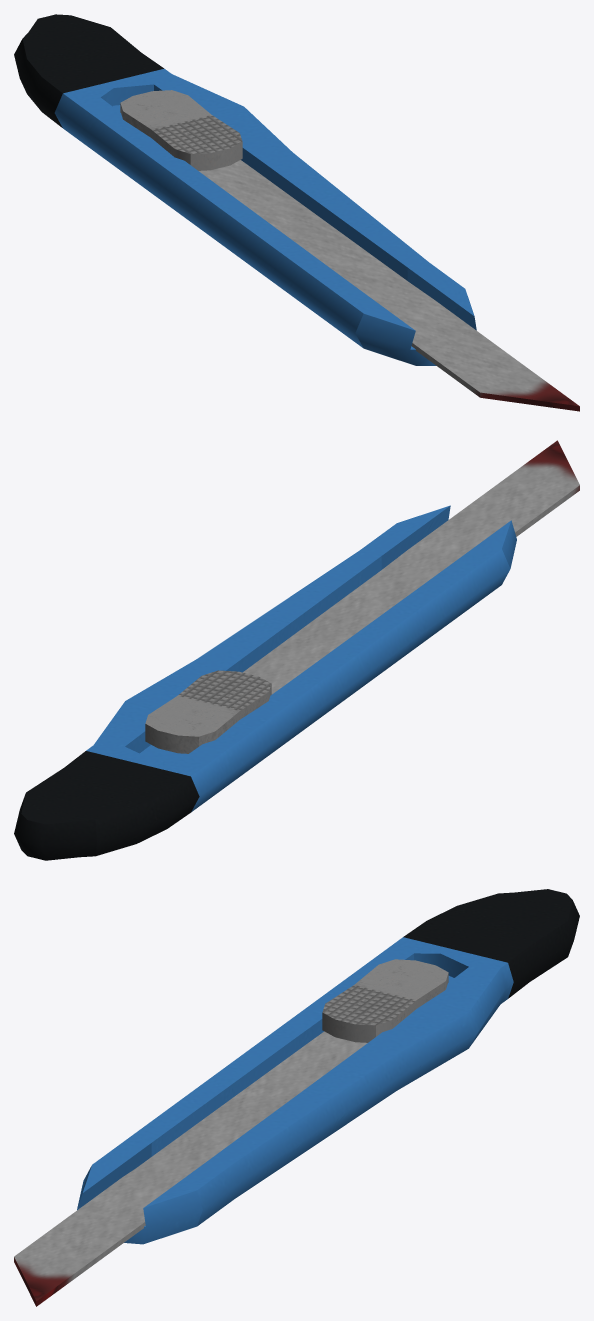
File: penKnife.fbx
3 renders of one model, top to bottom at view 1: azimuth 30°, elevation 25°; view 2: azimuth 150°, elevation 25°; view 3: azimuth 330°, elevation 25°, orthographic. The views are drawn at different scales.
Parts seen in each view (by area): view 1: penKnife_Body, penKnife_Blade, penKnife_Extender; view 2: penKnife_Body, penKnife_Blade, penKnife_Extender; view 3: penKnife_Body, penKnife_Blade, penKnife_Extender.
Boxes of the visible parts, <box> form: penKnife_Body: <box>14,14,476,365</box>; penKnife_Blade: <box>199,160,579,411</box>; penKnife_Extender: <box>120,90,242,170</box>; penKnife_Body: <box>14,505,516,860</box>; penKnife_Blade: <box>243,440,579,694</box>; penKnife_Extender: <box>145,670,271,753</box>; penKnife_Body: <box>77,889,579,1244</box>; penKnife_Blade: <box>14,1031,367,1306</box>; penKnife_Extender: <box>322,959,448,1042</box>.
Size of the model in its own units: 0.038 by 0.0113 by 0.2467.
